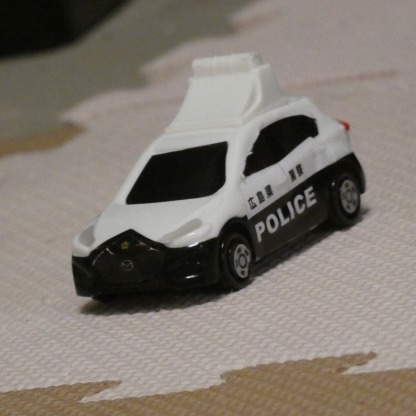car: (71, 46, 369, 294)
